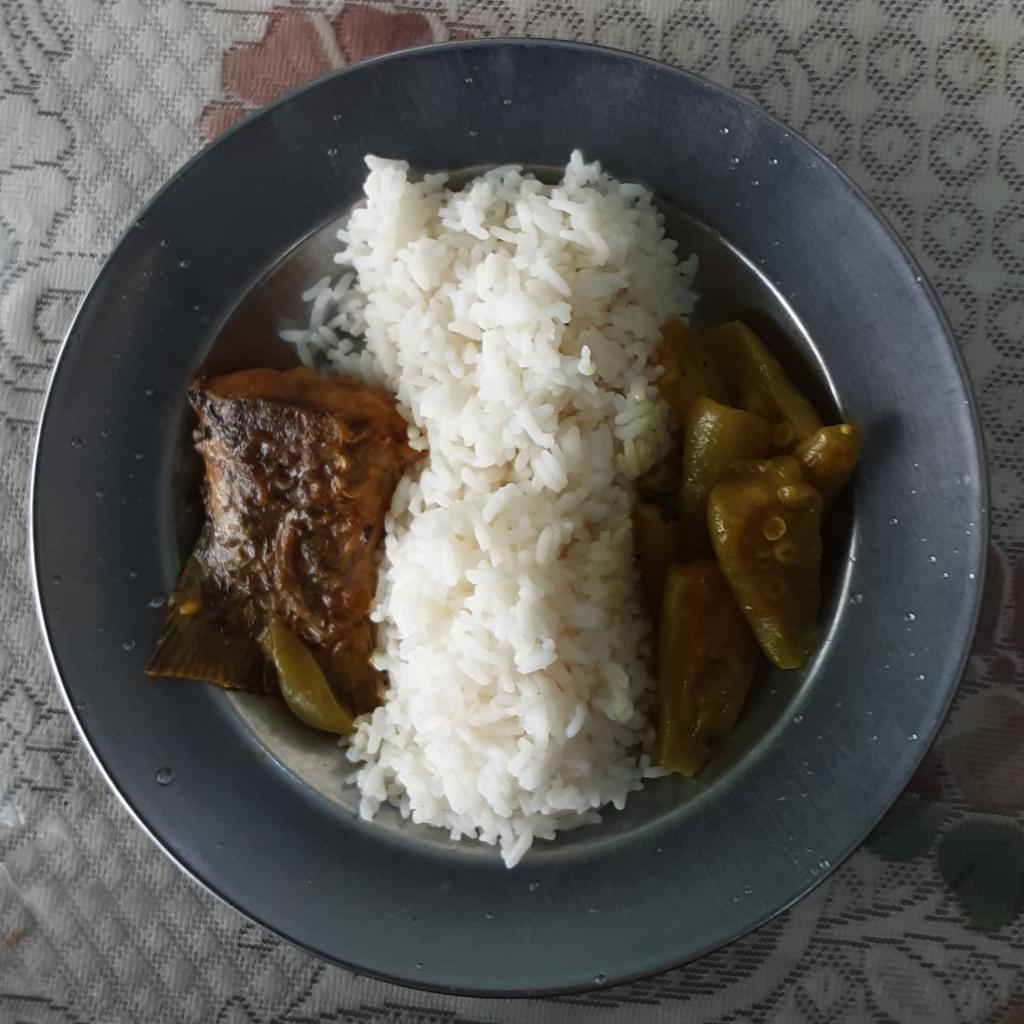fish: (146, 367, 416, 731)
potol: (634, 319, 862, 780)
rice: (279, 146, 701, 882)
